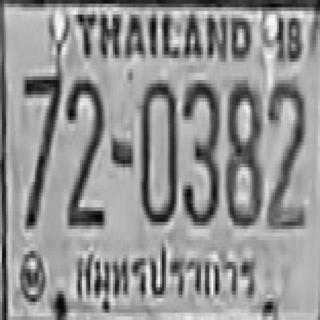N00: (140, 76, 177, 222)
N02: (266, 76, 305, 226), (66, 74, 102, 224)
N03: (182, 76, 218, 222)
N07: (21, 71, 60, 227)
N08: (223, 78, 260, 224)
P57: (71, 234, 258, 316)
